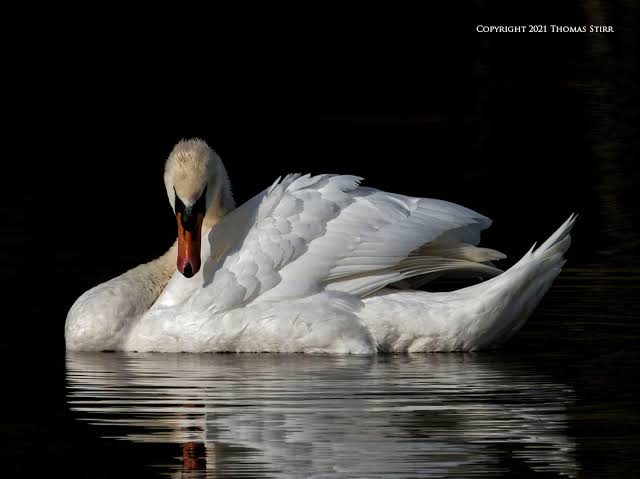swan: (65, 132, 582, 357)
